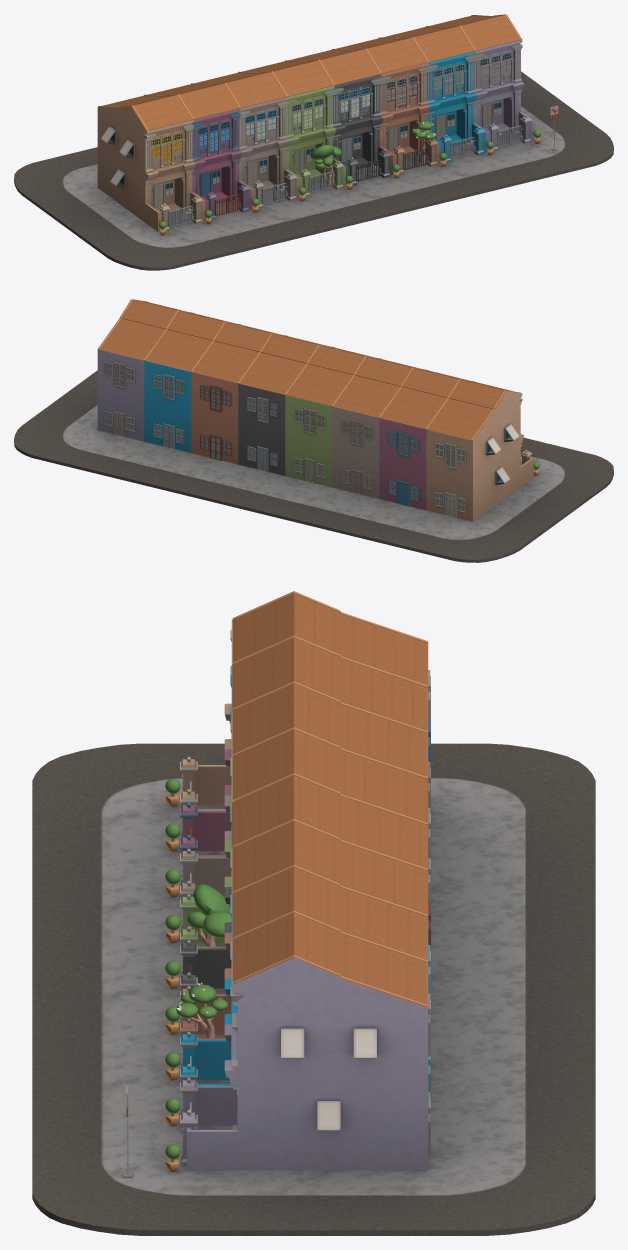
Rendered from P013_JooChiat.fbx.
The picture shows the model from 3 angles, top to bottom: view 1: azimuth 30°, elevation 25°; view 2: azimuth 150°, elevation 25°; view 3: azimuth 270°, elevation 25°; orthographic projection. The views are drawn at different scales.
Parts seen in each view (by area): view 1: Joon Chiat Area; view 2: Joon Chiat Area; view 3: Joon Chiat Area.
Boxes of the visible parts, box(x1,y1,x2,y2) form: Joon Chiat Area: box(14, 14, 613, 270); Joon Chiat Area: box(14, 299, 613, 562); Joon Chiat Area: box(32, 591, 595, 1235).
Size of the model in its own units: 1.19 by 0.2505 by 0.5835.
